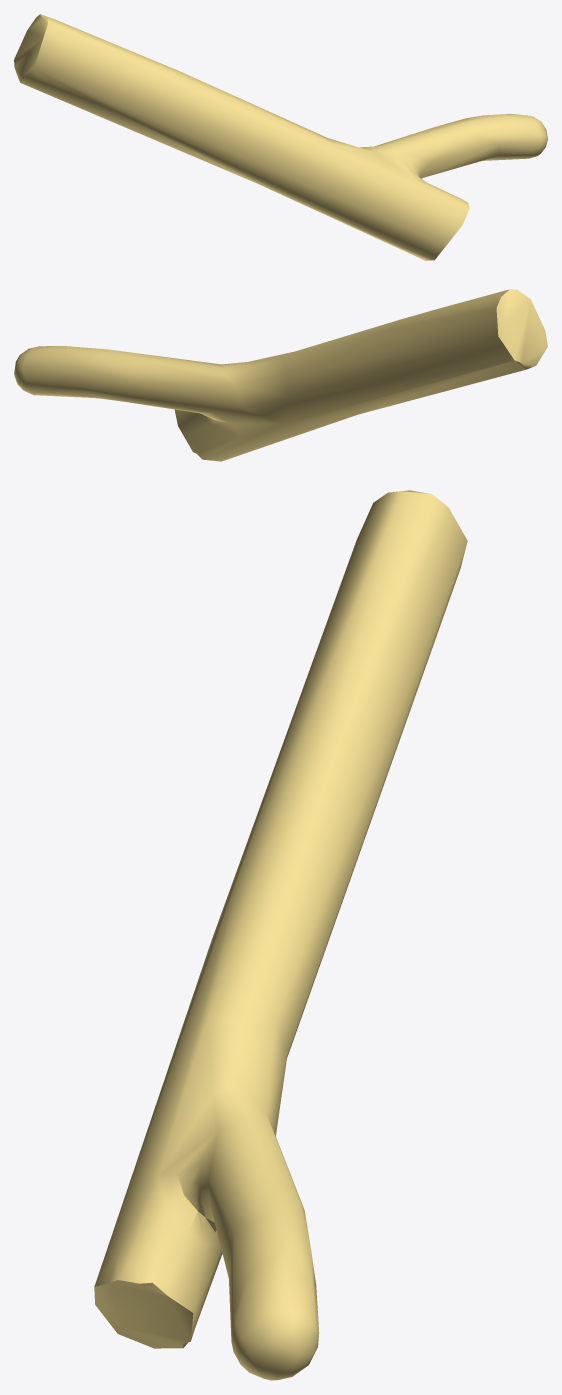
The model's file is fma65364_fj4273.glb.
The picture shows the model from 3 angles, top to bottom: view 1: azimuth 30°, elevation 25°; view 2: azimuth 150°, elevation 25°; view 3: azimuth 270°, elevation 25°; orthographic projection. The views are drawn at different scales.
Parts seen in each view (by area): view 1: FMA65364_FJ4273; view 2: FMA65364_FJ4273; view 3: FMA65364_FJ4273.
Boxes of the visible parts, x1,y1,x2,y2 form: FMA65364_FJ4273: (14,14,547,260); FMA65364_FJ4273: (14,289,547,461); FMA65364_FJ4273: (94,490,467,1380).
Bounding box in the file's own units: 0.0312 × 0.0166 × 0.0102.
